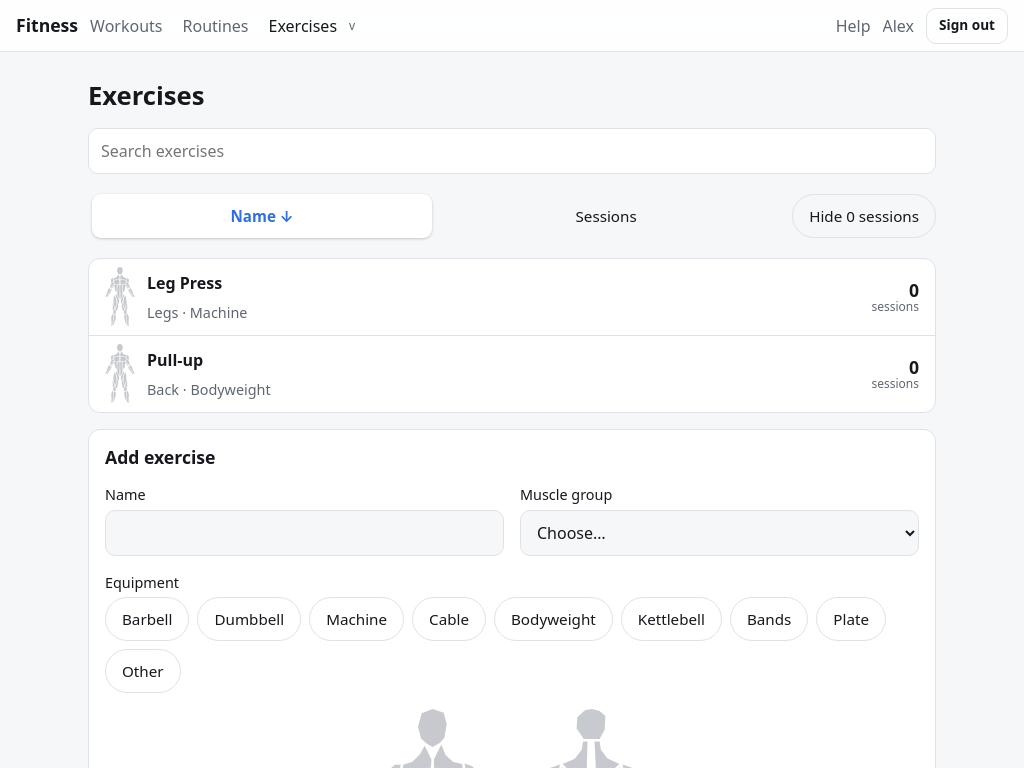
Test: exercise catalog › filters the catalog by name, muscle group or equipment
The image size is (1024, 768).
Step 1. Type "PRESS" into the search field labelled "Search exercises" → (512, 151), box [88,128,936,174]
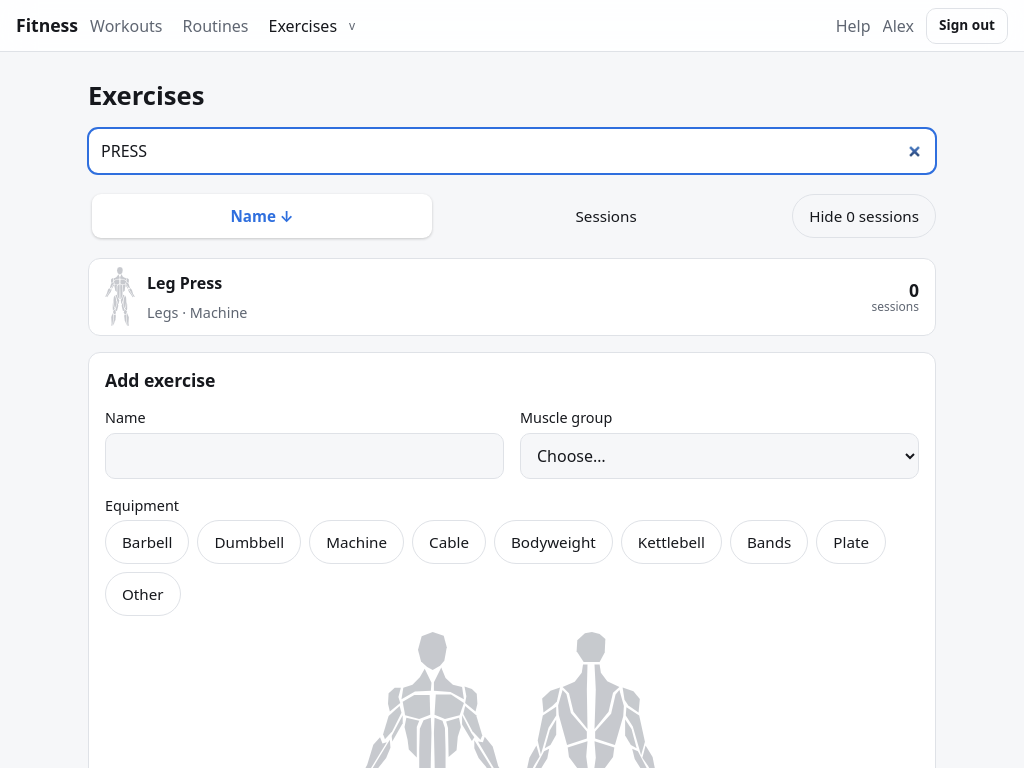
Step 2. Replace the text in the search field named "Search exercises" with "bodyweight" → (512, 151), box [88,128,936,174]
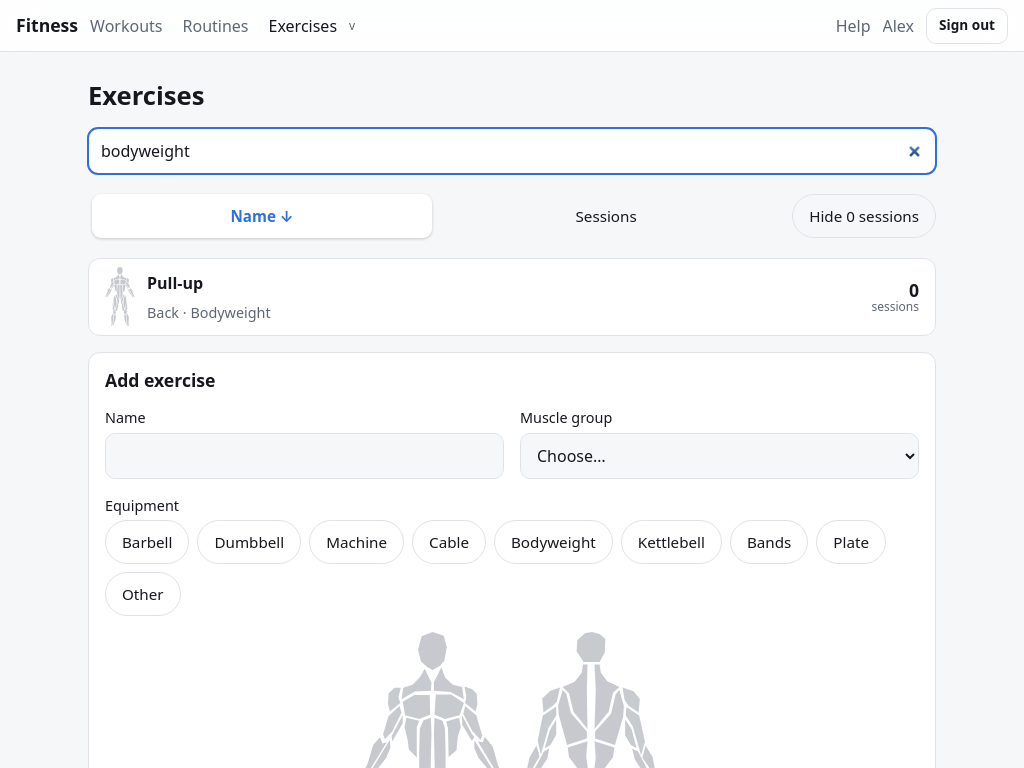
Step 3. Replace the text in the search field named "Search exercises" with "zzz" → (512, 151), box [88,128,936,174]
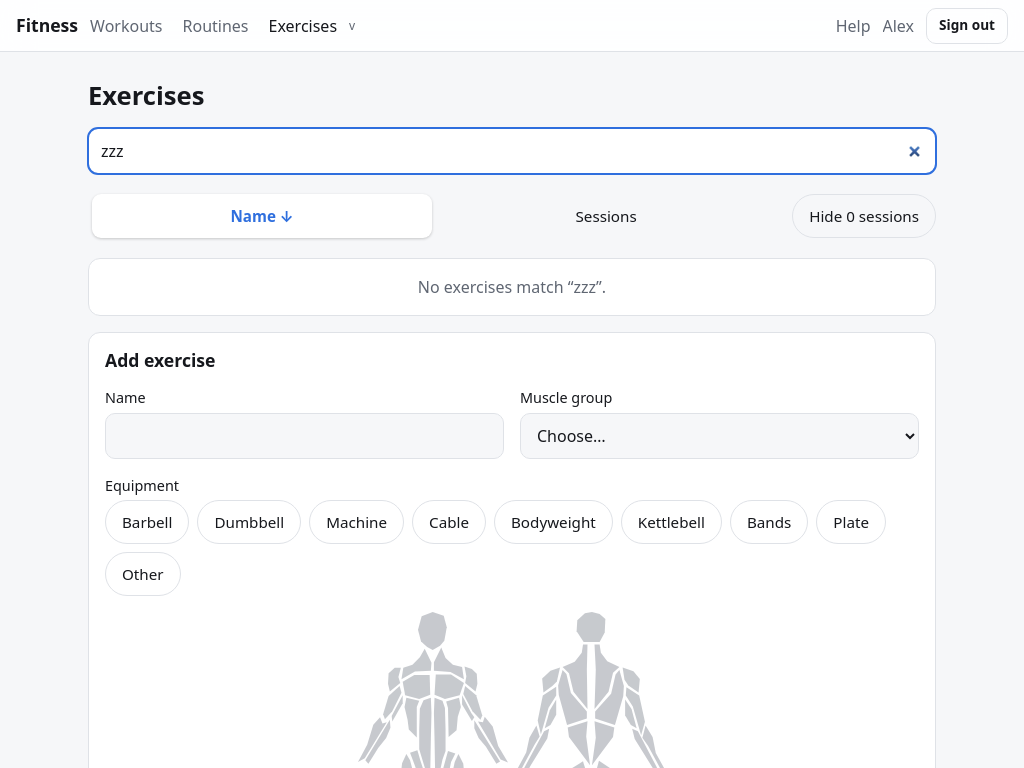
Now the text "No exercises match “zzz”." is shown, box [88,258,936,316]
